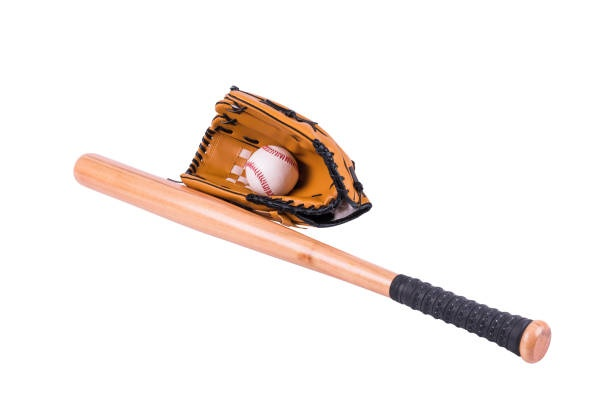bita: (79, 155, 548, 363)
